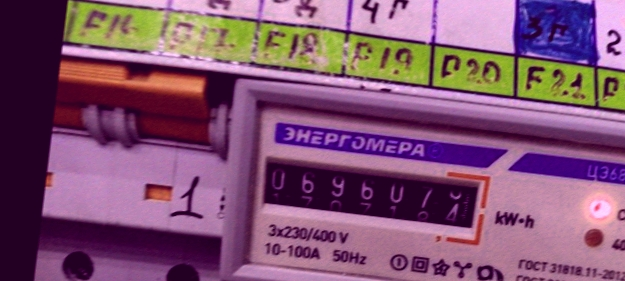0: (268, 165, 287, 191), (387, 177, 405, 204)
4: (442, 199, 460, 225)
6: (297, 168, 317, 194), (357, 175, 377, 201)
7: (416, 183, 434, 210)
9: (327, 172, 346, 198)
screen: (245, 141, 494, 243)
